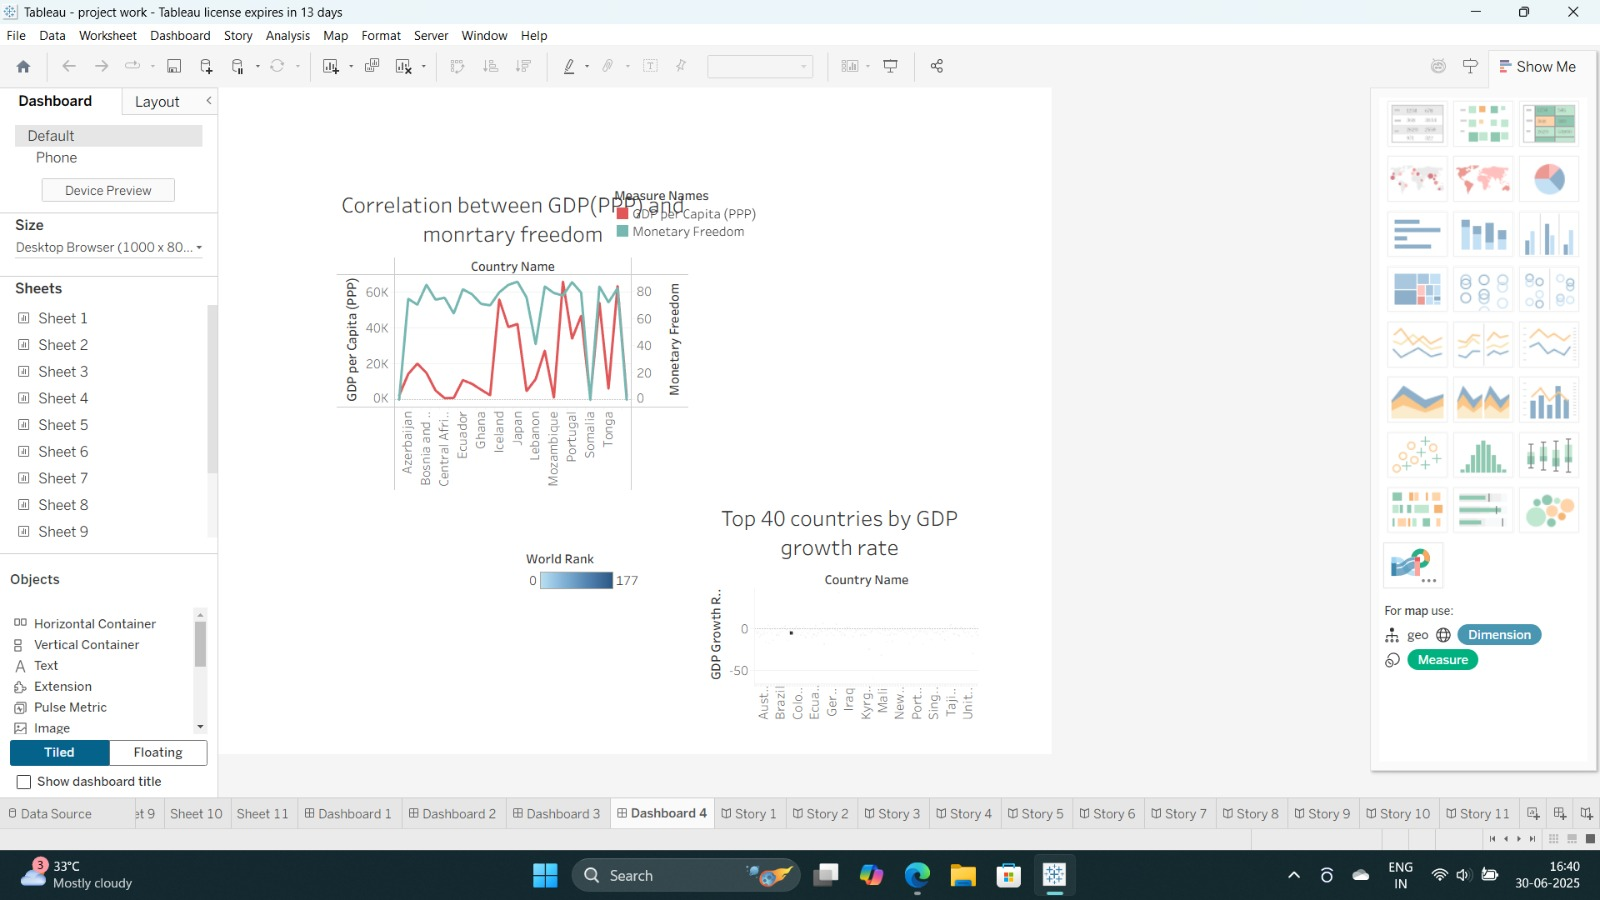

This screenshot's page, from the dashboard's own definition file:
{"tool":"tableau","page":{"name":"Dashboard 4","canvas":[1000,800],"ordinal":3},"visuals":[{"type":"worksheet","title":"Sheet 10","mark":"Line","rows":["GDP per Capita (PPP)","Monetary Freedom"],"cols":["Country Name"],"box":[142,119,423,365]},{"type":"legend","title":"Sheet 10","param":"[federated.1bvdiqv07tdfil12pc6ir0y7xcc5].[:Measure Names]","box":[475,119,176,64]},{"type":"worksheet","title":"Sheet 11","mark":"Shape","rows":["GDP Growth Rate (%)"],"cols":["Country Name"],"box":[579,495,333,266]},{"type":"legend","title":"Sheet 11","param":"[federated.1bvdiqv07tdfil12pc6ir0y7xcc5].[sum:World Rank:qk]","box":[369,555,140,88]}]}

Visuals, with their boxes on the page's 1000x800 design canvas (x1, y1, x2, y2). These are canvas units, not pixel positions in the 1600x900 screenshot, which may show the page scaled, cropped or inside an application window:
"Sheet 10" worksheet (Line marks): l=142, t=119, r=565, b=484
"Sheet 10" legend: l=475, t=119, r=651, b=183
"Sheet 11" worksheet (Shape marks): l=579, t=495, r=912, b=761
"Sheet 11" legend: l=369, t=555, r=509, b=643
